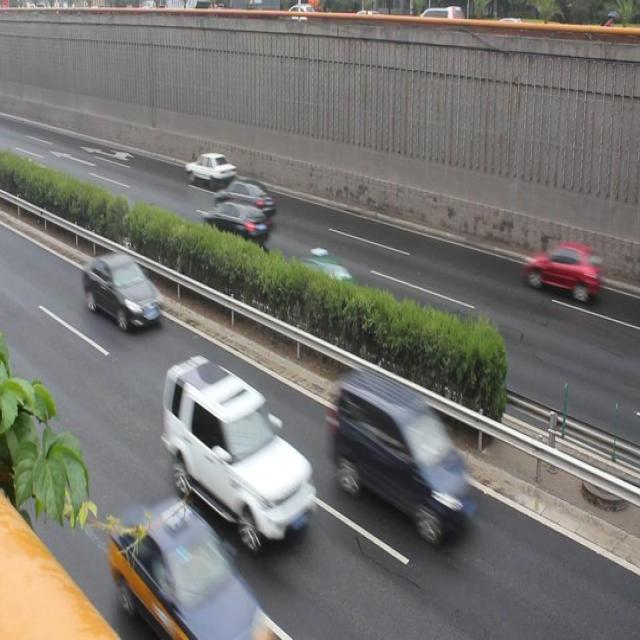car: (160, 355, 314, 542), (109, 495, 272, 640), (79, 248, 161, 326), (520, 237, 602, 305), (292, 242, 358, 308), (202, 197, 268, 247), (216, 177, 273, 218), (184, 148, 233, 185)
truck: (331, 366, 479, 539)
